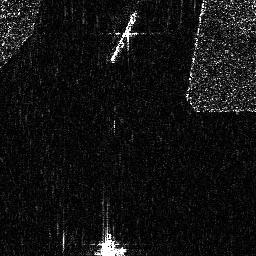ship: (111, 9, 138, 64)
